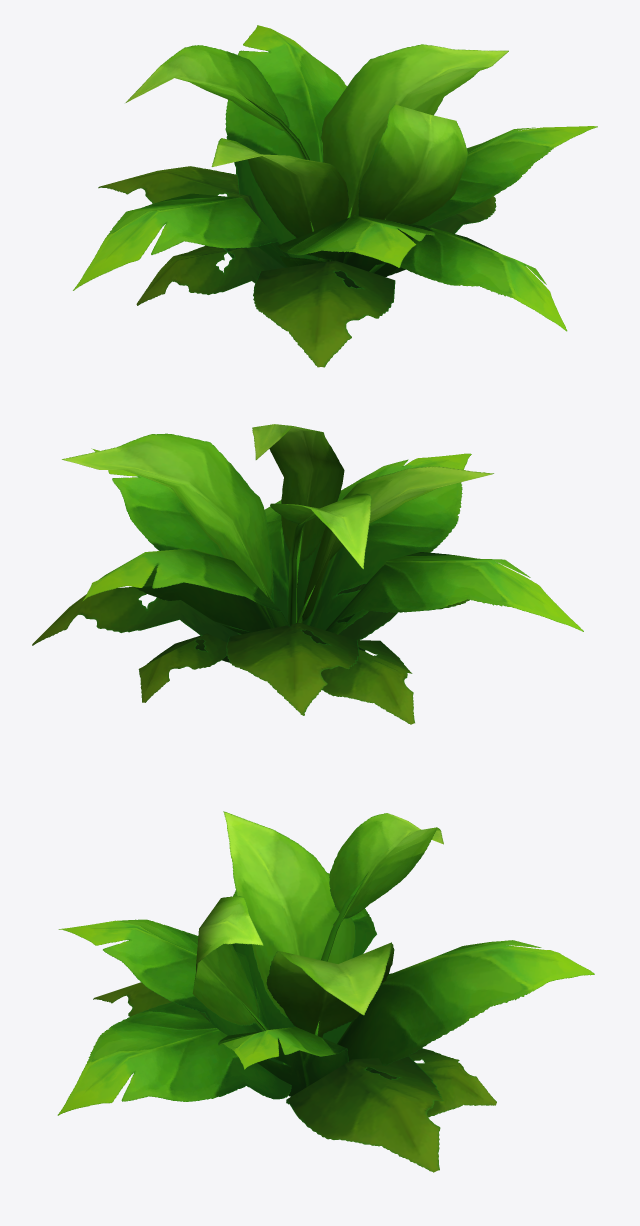
File: XL_guanmu_01.FBX
The picture shows the model from 3 angles, top to bottom: view 1: azimuth 30°, elevation 25°; view 2: azimuth 150°, elevation 25°; view 3: azimuth 270°, elevation 25°; orthographic projection.
Visible parts, largest first — view 1: XL_guanmu_01; view 2: XL_guanmu_01; view 3: XL_guanmu_01.
Part boxes in pixels (x1=…): XL_guanmu_01: x1=73, y1=25, x2=597, y2=367; XL_guanmu_01: x1=32, y1=424, x2=583, y2=724; XL_guanmu_01: x1=57, y1=811, x2=594, y2=1172.
Size of the model in its own units: 608 by 310 by 582.
